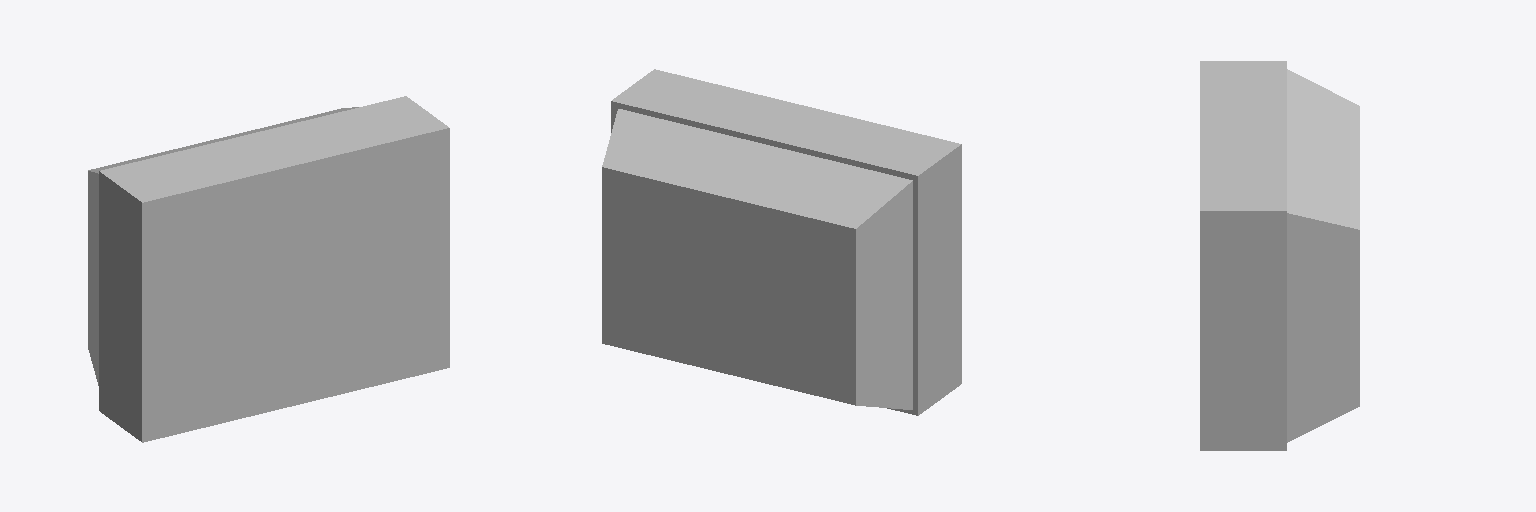
File: WebcamMonitor_4x3_collision.obj
The picture shows the model from 3 angles: view 1: azimuth 30°, elevation 25°; view 2: azimuth 150°, elevation 25°; view 3: azimuth 270°, elevation 25°; orthographic projection.
Parts seen in each view (by area): view 1: Collision; view 2: Collision; view 3: Collision.
Part boxes in pixels (x1,y1,x2,y2): Collision: (88, 96, 449, 442); Collision: (602, 69, 961, 415); Collision: (1200, 61, 1359, 450).
Size of the model in its own units: 2.8 by 2.09 by 1.27.